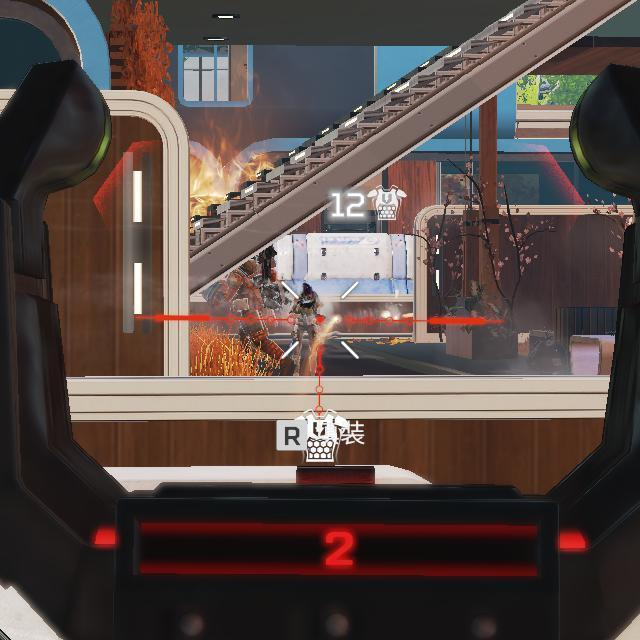avatar: (288, 281, 324, 376)
